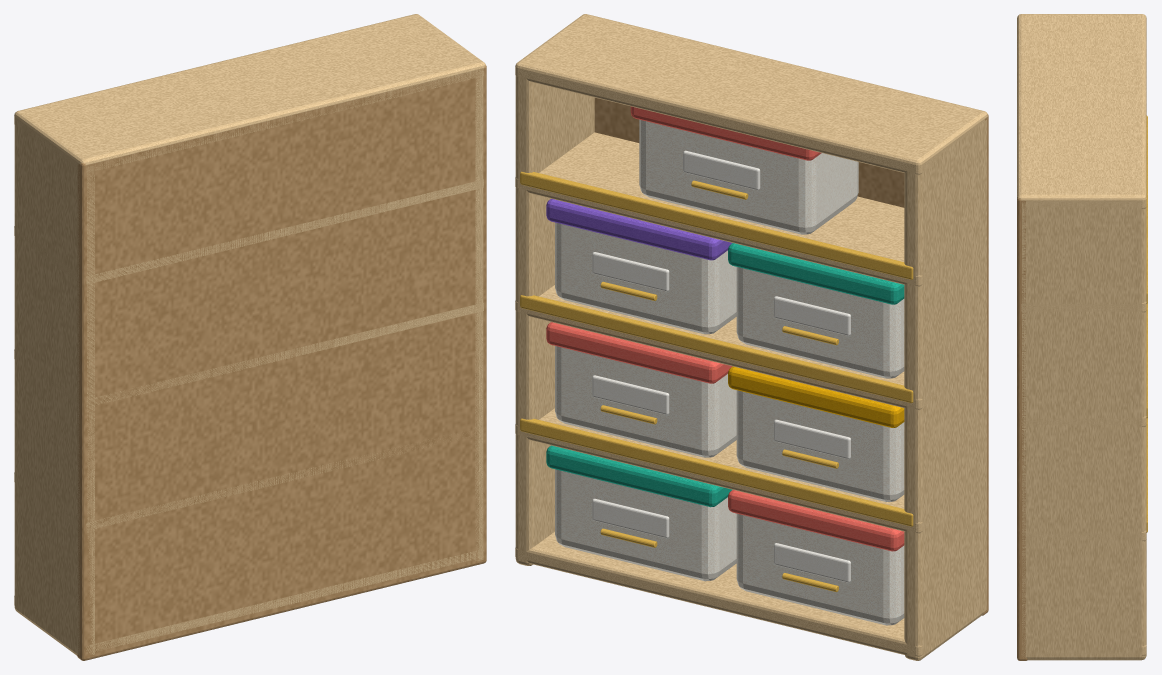
Rendered from storage-unit.glb.
The picture shows the model from 3 angles, left to right: view 1: azimuth 30°, elevation 25°; view 2: azimuth 150°, elevation 25°; view 3: azimuth 270°, elevation 25°; orthographic projection. The views are drawn at different scales.
Parts seen in each view (by area): view 1: Storage_Back, Storage_Side, Storage_Shelf.004, Storage_Side.001, Storage_Shelf.003, Storage_Shelf, Storage_Shelf.002, Storage_Shelf.001; view 2: Storage_Side, Storage_Shelf.004, Storage_Side.001, Bin_3_0, Storage_Shelf.003, Bin_2_1, Bin_0_1, Bin_1_1, Bin_0_0, Bin_2_0, Bin_1_0, Storage_Shelf (+20 smaller); view 3: Storage_Side.001, Storage_Shelf.004, Storage_Back, Storage_Shelf.003, Storage_Shelf.002, Storage_Shelf.001, Shelf_Lip.002, Storage_Shelf, Shelf_Lip, Shelf_Lip.001.
Part boxes in pixels (x1,y1,x2,y2): Storage_Back: (77, 65, 486, 660); Storage_Side: (14, 119, 94, 655); Storage_Shelf.004: (14, 14, 485, 172); Storage_Side.001: (475, 70, 483, 560); Storage_Shelf.003: (14, 179, 483, 284); Storage_Shelf: (14, 549, 483, 653); Storage_Shelf.002: (14, 302, 483, 407); Storage_Shelf.001: (14, 433, 474, 530); Storage_Side: (904, 120, 986, 660); Storage_Shelf.004: (515, 14, 987, 175); Storage_Side.001: (515, 76, 594, 565); Bin_3_0: (639, 119, 858, 234); Storage_Shelf.003: (515, 132, 946, 286); Bin_2_1: (555, 222, 736, 334); Bin_0_1: (555, 469, 736, 581); Bin_1_1: (555, 346, 736, 457); Bin_0_0: (736, 513, 904, 625); Bin_2_0: (736, 267, 904, 378); Bin_1_0: (736, 390, 904, 501); Storage_Shelf: (515, 532, 922, 656); Storage_Side.001: (1022, 202, 1146, 660); Storage_Shelf.004: (1017, 14, 1146, 208); Storage_Back: (1017, 198, 1027, 660); Storage_Shelf.003: (1021, 301, 1146, 312); Storage_Shelf.002: (1021, 416, 1146, 426); Storage_Shelf.001: (1026, 530, 1146, 541); Shelf_Lip.002: (1146, 115, 1147, 303); Storage_Shelf: (1026, 645, 1146, 655); Shelf_Lip: (1146, 417, 1147, 532); Shelf_Lip.001: (1146, 303, 1147, 417).
Bounding box in the file's own units: 2.55 × 3.01 × 0.7675.
Materials: 9 (9 with a texture image).
